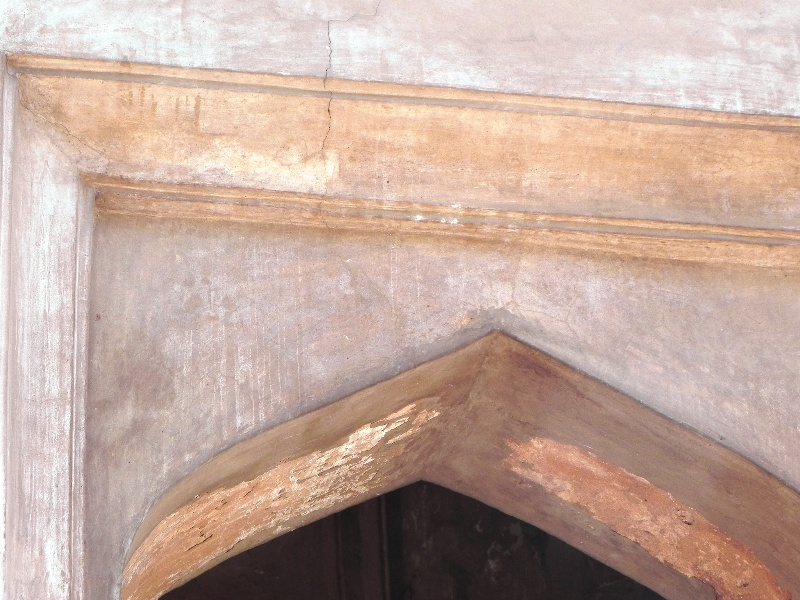Crack: (318, 14, 337, 157)
